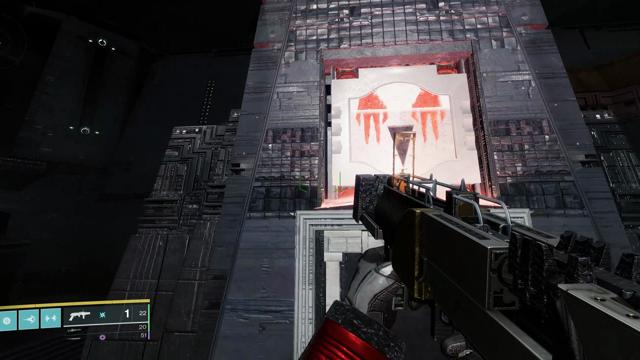give: (348, 81, 458, 177)
